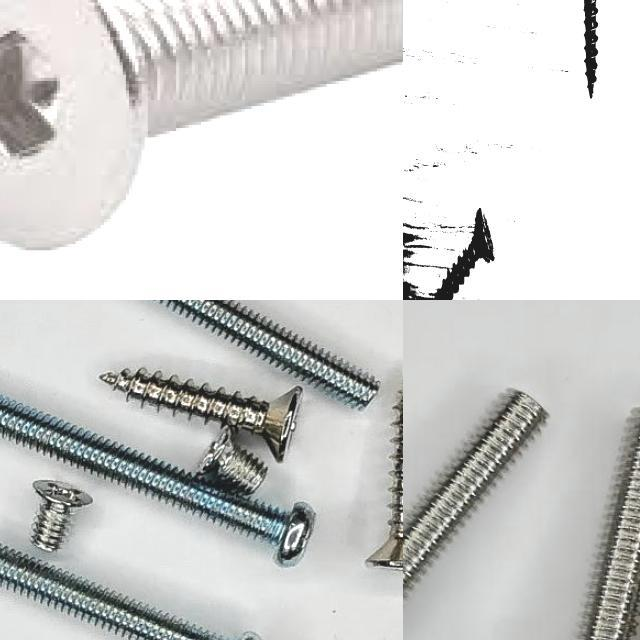Screw: (0, 0, 403, 254), (0, 394, 315, 566), (403, 391, 548, 596), (159, 300, 380, 408), (0, 545, 233, 640), (100, 368, 303, 462), (580, 409, 640, 640), (367, 391, 403, 570), (434, 208, 494, 300), (202, 426, 268, 496), (31, 480, 93, 552), (584, 0, 599, 97)
